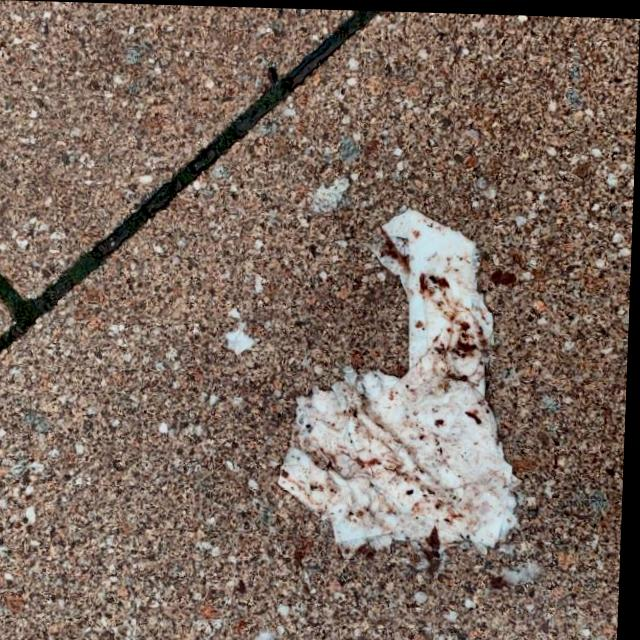Paper: (277, 199, 534, 565)
